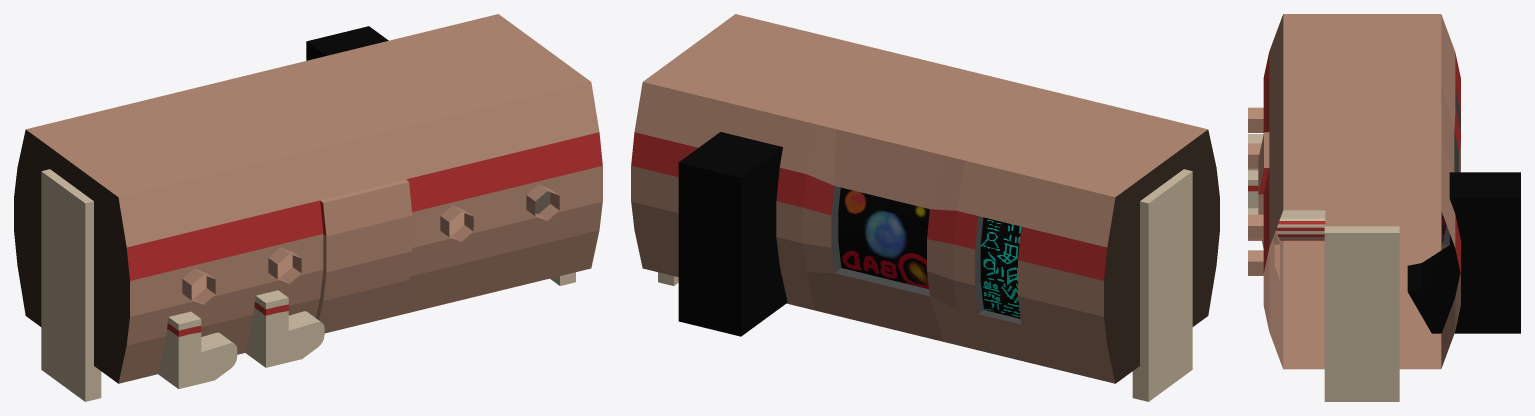
The model's file is Spaceship.fbx.
3 views of the same model, side by side, from view 1: azimuth 30°, elevation 25°; view 2: azimuth 150°, elevation 25°; view 3: azimuth 270°, elevation 25° (orthographic). The views are drawn at different scales.
Visible parts, largest first — view 1: Room, Cube.004, Cube.001, Cube, Cube.002; view 2: Room, Cube.002, Cube.004; view 3: Room, Cube.002, Cube.003, Cube.
Part boxes in pixels (x1=…): Room: x1=14, y1=14, x2=602, y2=383; Cube.004: x1=41, y1=169, x2=101, y2=401; Cube.001: x1=158, y1=311, x2=237, y2=389; Cube: x1=245, y1=290, x2=324, y2=367; Cube.002: x1=306, y1=26, x2=388, y2=60; Room: x1=631, y1=14, x2=1219, y2=383; Cube.002: x1=678, y1=132, x2=787, y2=336; Cube.004: x1=1132, y1=169, x2=1192, y2=401; Room: x1=1248, y1=14, x2=1460, y2=369; Cube.002: x1=1407, y1=172, x2=1520, y2=333; Cube.003: x1=1324, y1=226, x2=1399, y2=401; Cube: x1=1248, y1=170, x2=1325, y2=240.
Bounding box in the file's own units: 6119 × 2626 × 3461.
